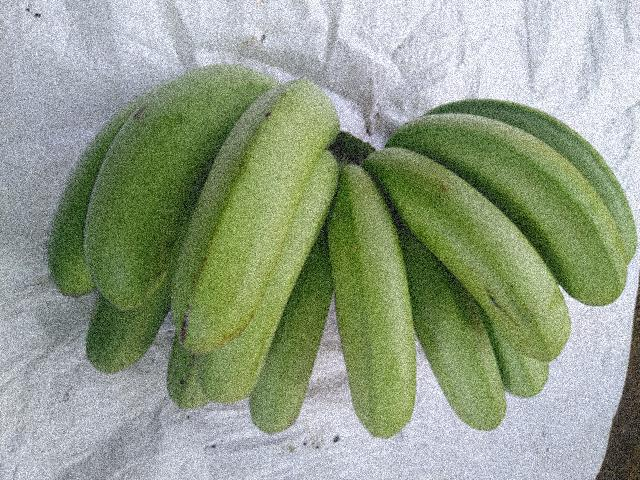freshunripe: (157, 61, 335, 345), (399, 101, 627, 318), (365, 138, 568, 363), (82, 51, 235, 313), (310, 112, 421, 438), (251, 208, 341, 434), (410, 277, 516, 438)
